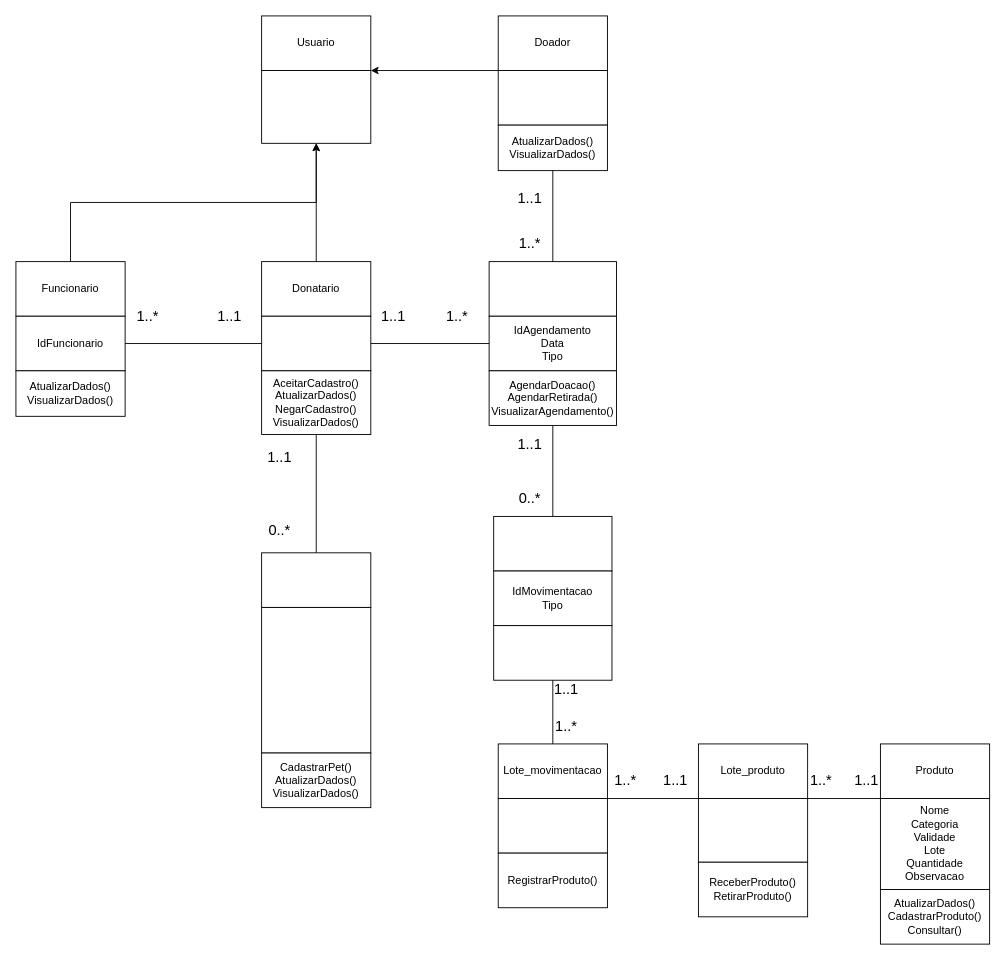
The diagram is 1006 pixels wide and 960 high, and some of its shapes have lost their labels. Here are the shapes that lost their labels. From the top down, the centre of each, then its label:
pixel 316 106: Nome Email CPF/CNPJ Telefone CEP
pixel 552 97: IdDoador
pixel 552 288: Agendamento
pixel 316 343: CadUnico QuantidadePets
pixel 552 543: Movimentacao
pixel 316 579: Pet
pixel 552 652: InserirMovimentacao() VisualizarDoacoes() VisualizarRetiradas()
pixel 316 680: IdAnimal Nome Idade Porte Especie Sexo Castrado Vacinado Microchip RG
pixel 552 825: Quantidade
pixel 753 830: IdLoteProduto Lote Quantidade Validade
